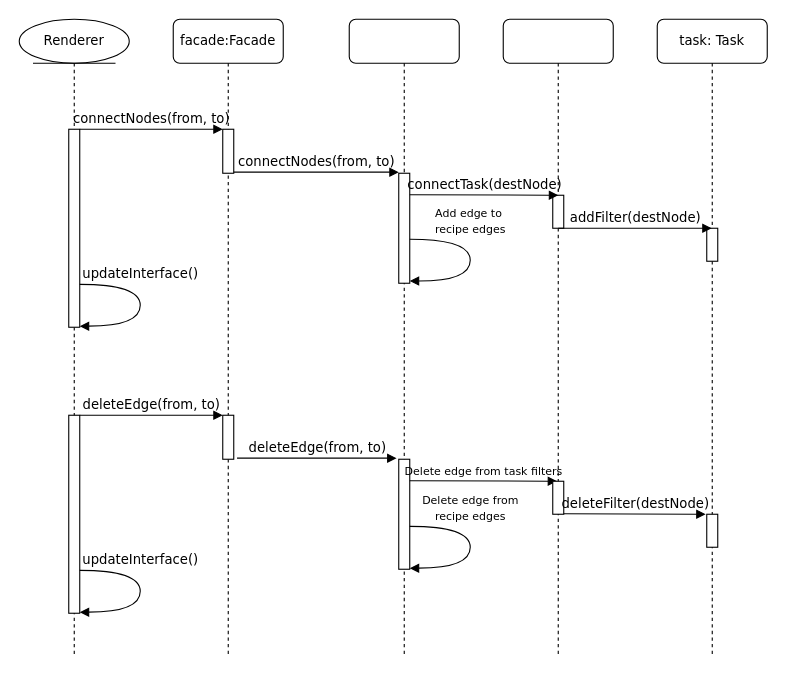
Some shapes in this 787 by 677 pixel diagram are drawn without their labels. Here are the shapes that lost their labels. From the top down, the box of each, then its label:
(348, 18, 459, 657): currentRecipe: Recipe
(502, 18, 613, 657): srcNode: Node
